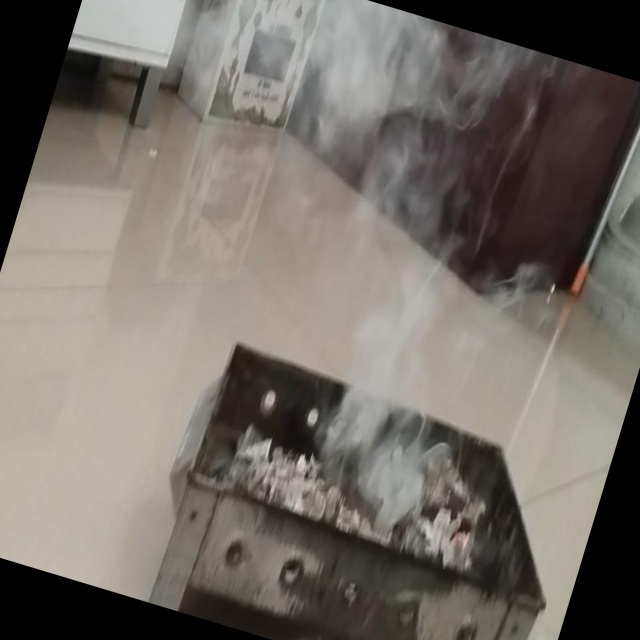smoke: (306, 21, 535, 478)
